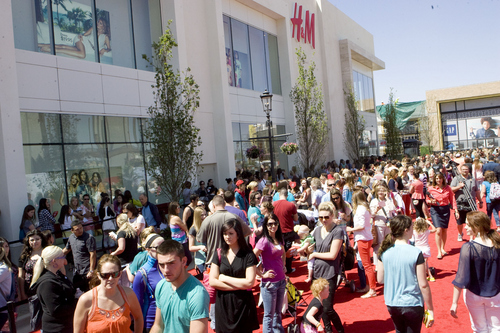Age_20_30: (160, 244, 189, 281), (99, 259, 124, 293), (317, 205, 335, 226), (266, 215, 282, 234), (26, 233, 44, 248), (433, 173, 445, 185)
Age_30_40: (71, 223, 85, 236), (461, 164, 471, 177)
Age_40_50: (138, 194, 148, 205)
Age_below20: (221, 223, 242, 248), (315, 280, 334, 301)
E_Hispanic: (71, 223, 85, 236)
E_White: (160, 244, 189, 281), (99, 259, 124, 293), (221, 223, 242, 248), (315, 280, 334, 301), (317, 205, 335, 226), (266, 215, 282, 234), (26, 233, 44, 248), (433, 173, 445, 185), (461, 164, 471, 177), (138, 194, 148, 205)
Emotion_Angry: (99, 259, 124, 293), (71, 223, 85, 236)
Emotion_Happy: (26, 233, 44, 248)
Emotion_Neutral: (160, 244, 189, 281), (221, 223, 242, 248), (315, 280, 334, 301), (317, 205, 335, 226), (266, 215, 282, 234), (433, 173, 445, 185), (461, 164, 471, 177), (138, 194, 148, 205)
G_ Female: (99, 259, 124, 293), (221, 223, 242, 248), (317, 205, 335, 226), (266, 215, 282, 234), (26, 233, 44, 248), (433, 173, 445, 185)
G_Male: (160, 244, 189, 281), (315, 280, 334, 301), (71, 223, 85, 236), (461, 164, 471, 177), (138, 194, 148, 205)
Not_Face: (40, 249, 68, 274), (467, 214, 489, 235), (393, 219, 414, 238), (297, 226, 310, 244), (116, 215, 131, 230), (352, 190, 367, 204), (212, 197, 226, 212), (278, 187, 292, 200), (170, 202, 183, 215), (25, 206, 36, 217), (41, 199, 52, 209), (237, 180, 245, 190)
